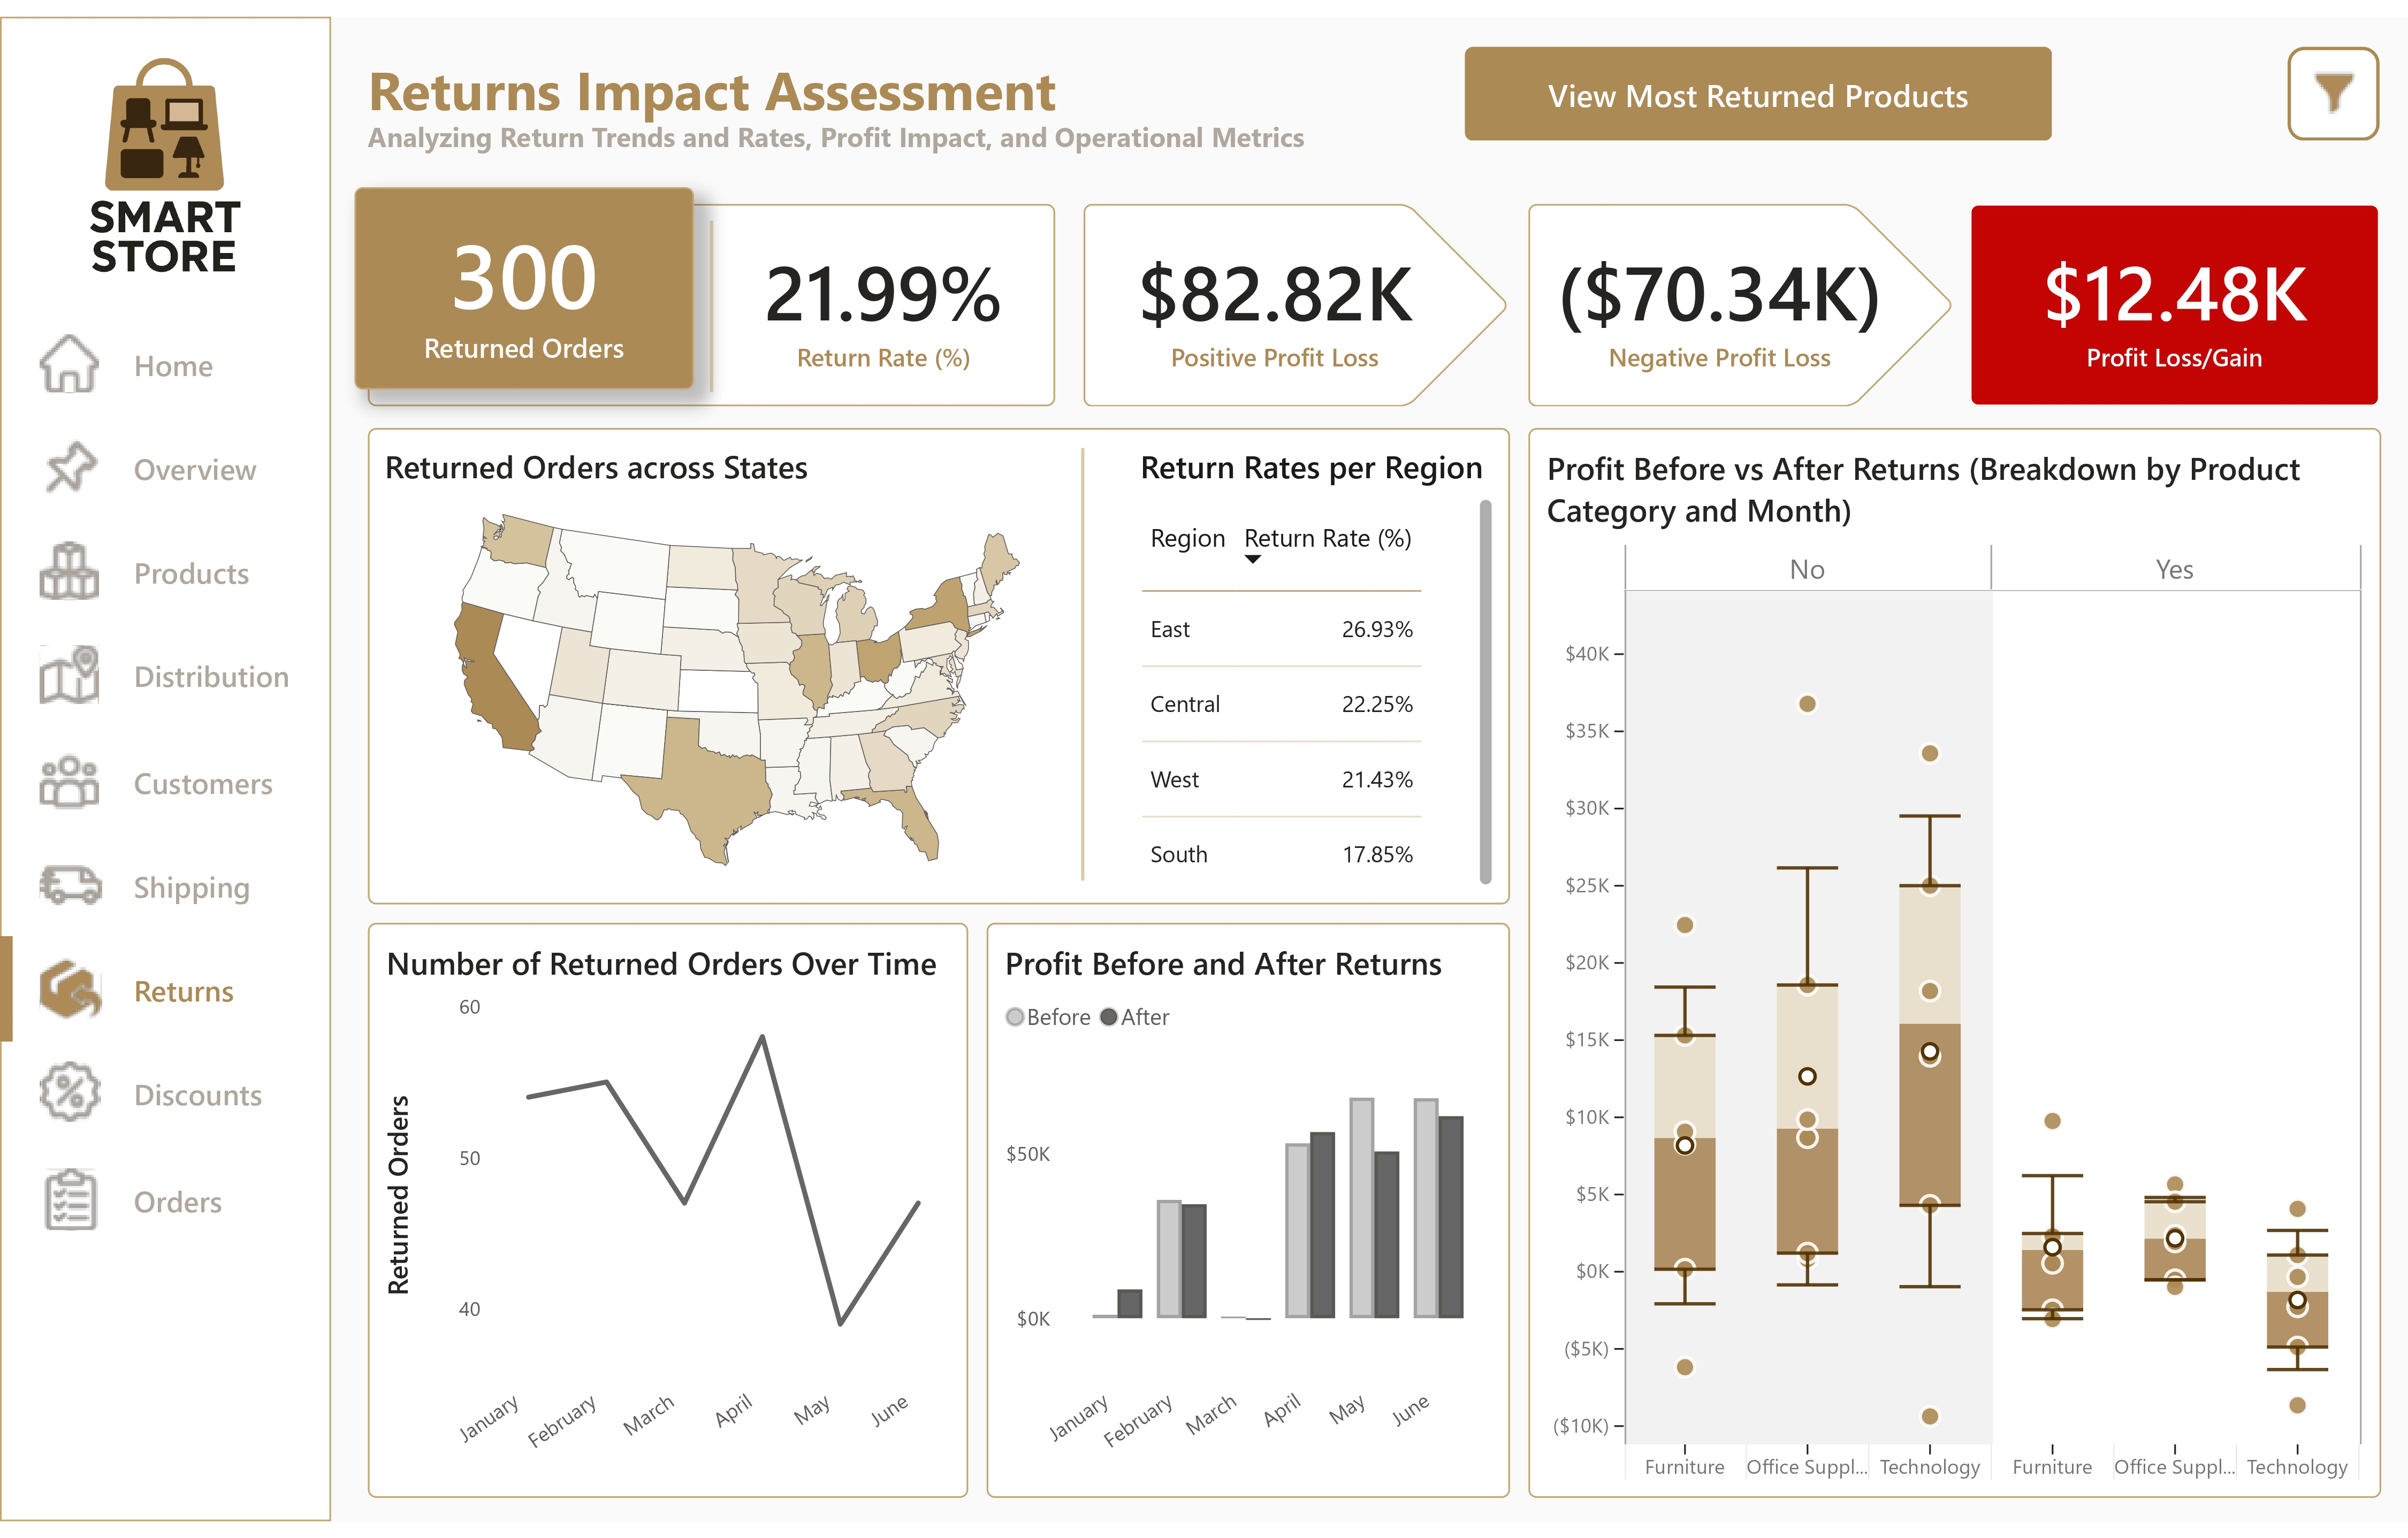

The page's visual inventory and layout, read from the dashboard file:
{"tool":"powerbi","page":{"name":"Returns","canvas":[1440,900],"ordinal":6},"visuals":[{"type":"shape","box":[220,245,682.5,285],"z":0},{"type":"shape","box":[0,0,197.5,900],"z":1000},{"type":"actionButton","box":[0,175,197.5,62.5],"z":2000},{"type":"actionButton","box":[0,237.5,197.5,62.5],"z":3000},{"type":"actionButton","box":[0,362.5,197.5,62.5],"z":4000},{"type":"actionButton","box":[0,425,197.5,62.5],"z":5000},{"type":"actionButton","box":[0,487.5,197.5,62.5],"z":7000},{"type":"actionButton","box":[0,550,196,62.9],"z":8000},{"type":"actionButton","box":[0,300,197.5,62.5],"z":9000},{"type":"lineChart","title":"Number of Returned Orders Over Time","fields":{"Category":["DateTable.Month Name"],"Y":["Count(OrderItems.order_id)"]},"box":[220,541.2,358.8,343.8],"z":10000},{"type":"shapeMap","title":"Returned Orders across States","fields":{"Category":["Locations.state_or_province"]},"box":[220,245,427.5,285],"z":11000},{"type":"tableEx","title":"Return Rates per Region","fields":{"Values":["Locations.region","Locations.Return Rate (%) Region"]},"box":[671.2,245,231.2,285],"z":12000},{"type":"actionButton","box":[0,675,197.5,62.5],"z":13000},{"type":"actionButton","box":[0,612.5,197.5,62.5],"z":14000},{"type":"BoxandWhiskerByMAQ1823AD39DT234AB532063E128AX","title":"Profit Before vs After Returns (Breakdown by Product Category and Month) ","fields":{"measure":["Sum(OrderItems.profit)"],"tooltipData":["CountNonNull(OrderItems.product_id)"],"xCategoryParent":["Orders.returned"],"categoryGroup":["Products.product_category"],"category":["DateTable.Month Name"]},"box":[913.8,245,510,640],"z":15000},{"type":"actionButton","title":"Show Filters Btn","box":[1368.8,17.5,55,56.2],"z":16000},{"type":"textbox","box":[220,55,821.2,33.8],"z":17000},{"type":"textbox","box":[220,15,717.5,61.2],"z":18000},{"type":"shape","box":[1178.8,111.2,245,121.2],"z":19000},{"type":"shape","box":[647.8,111.2,255,121.2],"z":20000},{"type":"shape","box":[914,111.2,255,121.2],"z":21000},{"type":"shape","box":[220,111.2,411.2,121.2],"z":22000},{"type":"card","fields":{"Values":["Sum(OrderItems.profit)"]},"box":[1178.8,111.2,245,121.2],"z":23000},{"type":"card","fields":{"Values":["OrderItems.Negative Profit"]},"box":[914,111.2,228.8,121.2],"z":24000},{"type":"card","fields":{"Values":["OrderItems.Positive Profit"]},"box":[647.8,111.2,228.8,121.2],"z":25000},{"type":"card","fields":{"Values":["Orders.Return Rate (%)"]},"box":[426.2,111.2,205,121.2],"z":26000},{"type":"card","fields":{"Values":["CountNonNull(Orders.order_id)"]},"box":[211.2,101.2,202.5,121.2],"z":27000},{"type":"shape","box":[418.8,121.2,15,102.5],"z":28000},{"type":"shape","box":[640,257.5,15,258.8],"z":29000},{"type":"clusteredColumnChart","title":"Profit Before and After Returns","fields":{"Category":["DateTable.Month Name"],"Y":["Sum(OrderItems.profit)","OrderItems.Total Profit"]},"box":[590,541.2,312.5,343.8],"z":30000},{"type":"actionButton","title":"View Returned","box":[876.2,17.5,351.2,56.2],"z":31000},{"type":"image","box":[22.5,13.8,152.5,152.5],"z":33250}]}

Visuals, with their boxes on the page's 1440x900 design canvas (x1, y1, x2, y2). These are canvas units, not pixel positions in the 2408x1538 screenshot, which may show the page scaled, cropped or inside an application window:
shape: x1=220 y1=245 x2=902 y2=530
shape: x1=0 y1=0 x2=198 y2=900
actionButton: x1=0 y1=175 x2=198 y2=238
actionButton: x1=0 y1=238 x2=198 y2=300
actionButton: x1=0 y1=362 x2=198 y2=425
actionButton: x1=0 y1=425 x2=198 y2=488
actionButton: x1=0 y1=488 x2=198 y2=550
actionButton: x1=0 y1=550 x2=196 y2=613
actionButton: x1=0 y1=300 x2=198 y2=362
"Number of Returned Orders Over Time" lineChart: x1=220 y1=541 x2=579 y2=885
"Returned Orders across States" shapeMap: x1=220 y1=245 x2=648 y2=530
"Return Rates per Region" tableEx: x1=671 y1=245 x2=902 y2=530
actionButton: x1=0 y1=675 x2=198 y2=738
actionButton: x1=0 y1=612 x2=198 y2=675
"Profit Before vs After Returns (Breakdown by Product Category and Month) " BoxandWhiskerByMAQ1823AD39DT234AB532063E128AX: x1=914 y1=245 x2=1424 y2=885
"Show Filters Btn" actionButton: x1=1369 y1=18 x2=1424 y2=74
textbox: x1=220 y1=55 x2=1041 y2=89
textbox: x1=220 y1=15 x2=938 y2=76
shape: x1=1179 y1=111 x2=1424 y2=232
shape: x1=648 y1=111 x2=903 y2=232
shape: x1=914 y1=111 x2=1169 y2=232
shape: x1=220 y1=111 x2=631 y2=232
card - Sum(OrderItems.profit): x1=1179 y1=111 x2=1424 y2=232
card - OrderItems.Negative Profit: x1=914 y1=111 x2=1143 y2=232
card - OrderItems.Positive Profit: x1=648 y1=111 x2=877 y2=232
card - Orders.Return Rate (%): x1=426 y1=111 x2=631 y2=232
card - CountNonNull(Orders.order_id): x1=211 y1=101 x2=414 y2=222
shape: x1=419 y1=121 x2=434 y2=224
shape: x1=640 y1=258 x2=655 y2=516
"Profit Before and After Returns" clusteredColumnChart: x1=590 y1=541 x2=902 y2=885
"View Returned" actionButton: x1=876 y1=18 x2=1227 y2=74
image: x1=22 y1=14 x2=175 y2=166
